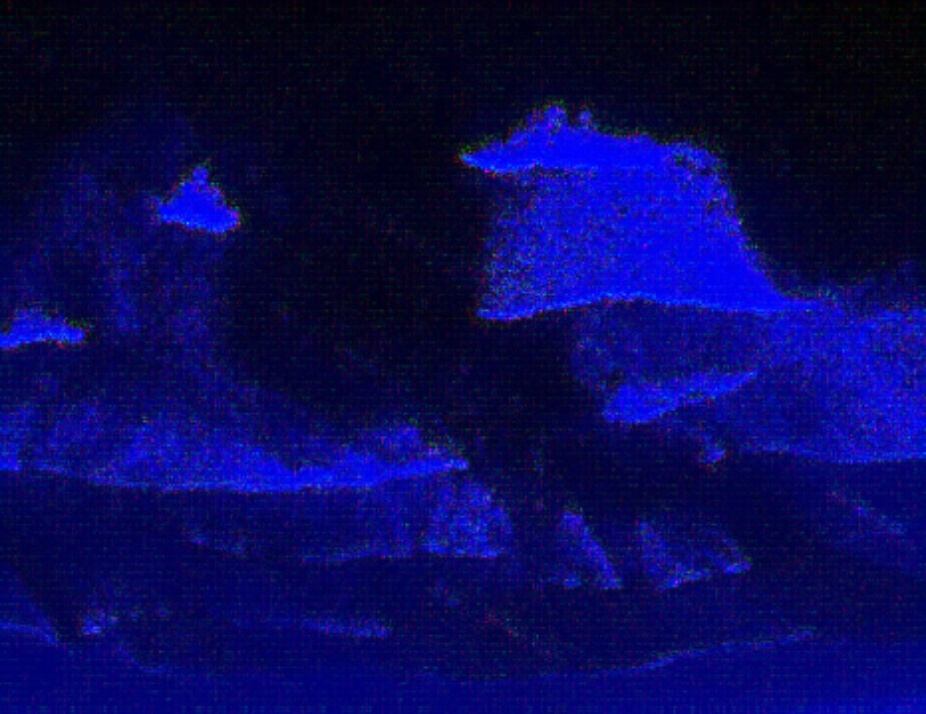rip_current: (200, 164, 703, 547)
